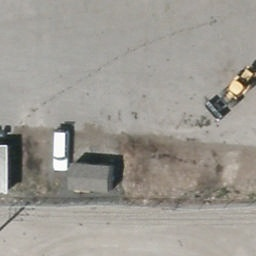car: (51, 131, 72, 170)
